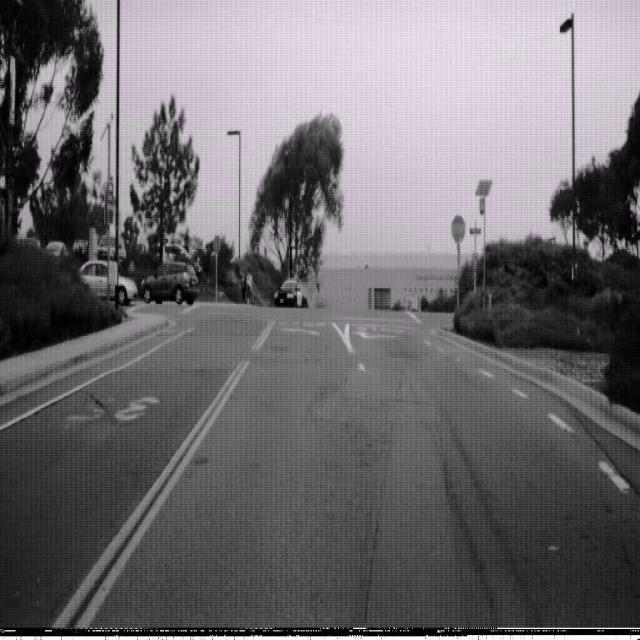stop_sign: (450, 212, 466, 244)
